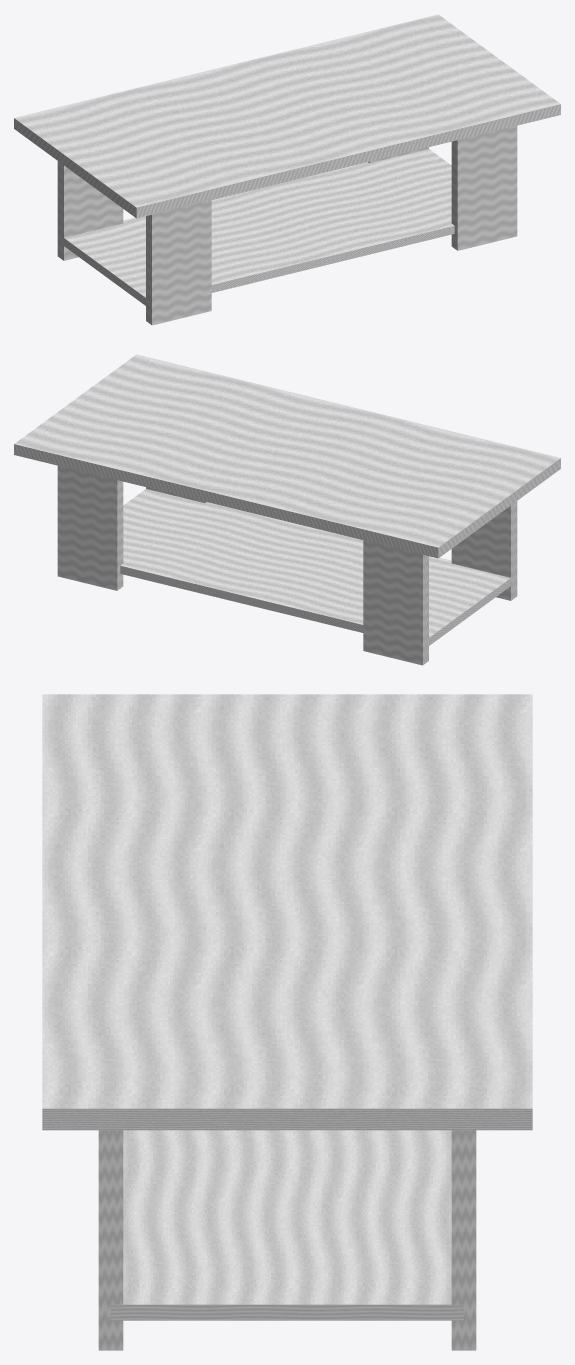
3 views of the same model, one above another, from view 1: azimuth 30°, elevation 25°; view 2: azimuth 150°, elevation 25°; view 3: azimuth 270°, elevation 25° (orthographic). The views are drawn at different scales.
Parts seen in each view (by area): view 1: 1 tabletop, 2 storage_shelf, 5 front_right_leg, 3 front_left_leg, 4 back_left_leg; view 2: 1 tabletop, 2 storage_shelf, 6 back_right_leg, 4 back_left_leg, 3 front_left_leg; view 3: 1 tabletop, 2 storage_shelf, 5 front_right_leg, 6 back_right_leg.
Boxes of the visible parts, x1,y1,x2,y2 form: 1 tabletop: (14, 14, 560, 218); 2 storage_shelf: (61, 149, 454, 307); 5 front_right_leg: (451, 125, 517, 250); 3 front_left_leg: (146, 200, 211, 325); 4 back_left_leg: (57, 161, 123, 260); 1 tabletop: (14, 354, 560, 558); 2 storage_shelf: (120, 489, 510, 647); 6 back_right_leg: (57, 465, 123, 590); 4 back_left_leg: (363, 540, 428, 665); 3 front_left_leg: (451, 501, 517, 600); 1 tabletop: (42, 694, 532, 1130); 2 storage_shelf: (111, 1130, 463, 1320); 5 front_right_leg: (98, 1130, 123, 1350); 6 back_right_leg: (451, 1130, 476, 1350).
Bounding box in the file's own units: 3.28 × 1 × 1.64.
Materials: 1 (1 with a texture image).
